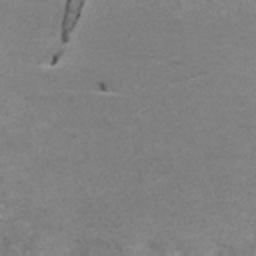Finishing roll printing: (51, 0, 86, 65), (98, 82, 107, 91)
